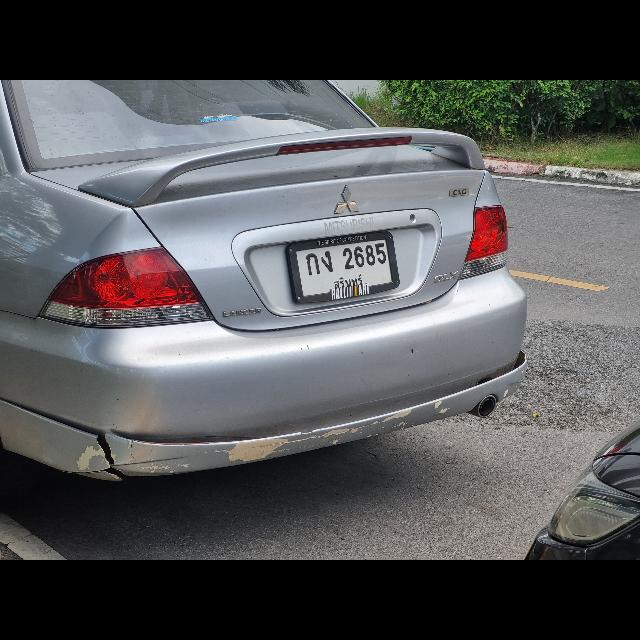licenseplate: (284, 227, 400, 305)
